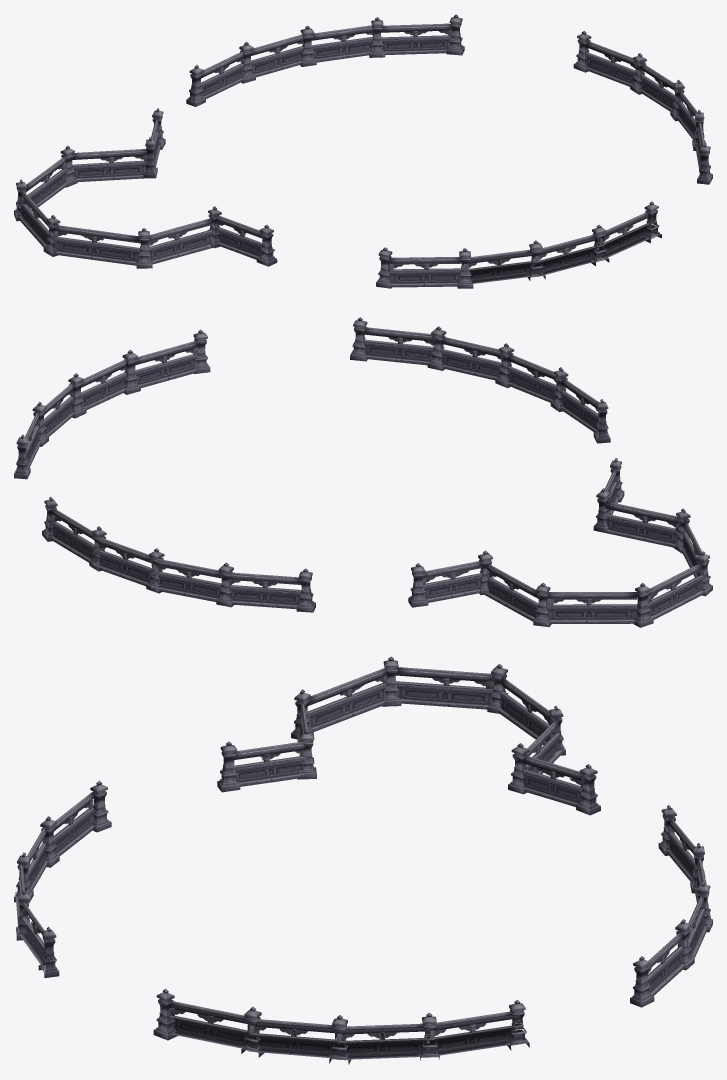
Rendered from s_battle_03_weilan.FBX.
3 views of the same model, one above another, from view 1: azimuth 30°, elevation 25°; view 2: azimuth 150°, elevation 25°; view 3: azimuth 270°, elevation 25° (orthographic). The views are drawn at different scales.
Parts seen in each view (by area): view 1: weilan; view 2: weilan; view 3: weilan.
Boxes of the visible parts, left/top/right/bottom form: weilan: left=14, top=14, right=712, bottom=288; weilan: left=14, top=317, right=712, bottom=627; weilan: left=14, top=656, right=712, bottom=1064.
Size of the model in its own units: 53.75 by 3.53 by 42.96.
